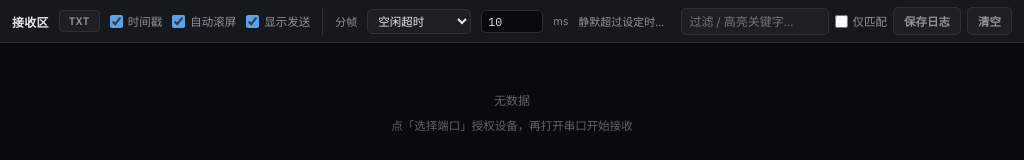
Scenario: 接收区分帧控件 › 切回空闲超时后 ms 输入框回来
Select "按换行" in the dropdown labelled "分帧" at (419, 21), box [367,8,471,34]
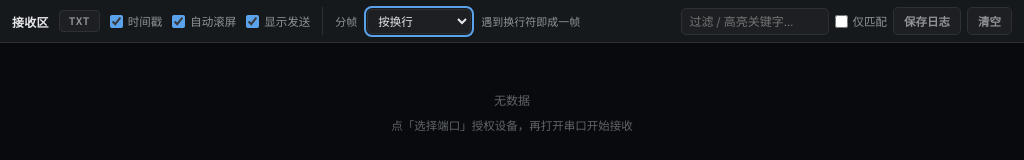
Select "空闲超时" in the dropdown labelled "分帧" at (419, 21), box [367,8,471,34]
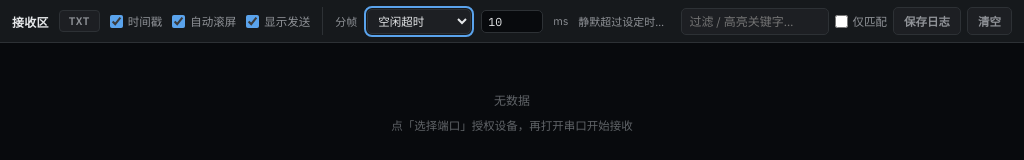
Result: the number field named "空闲时长" is shown at [481,10,543,32]
